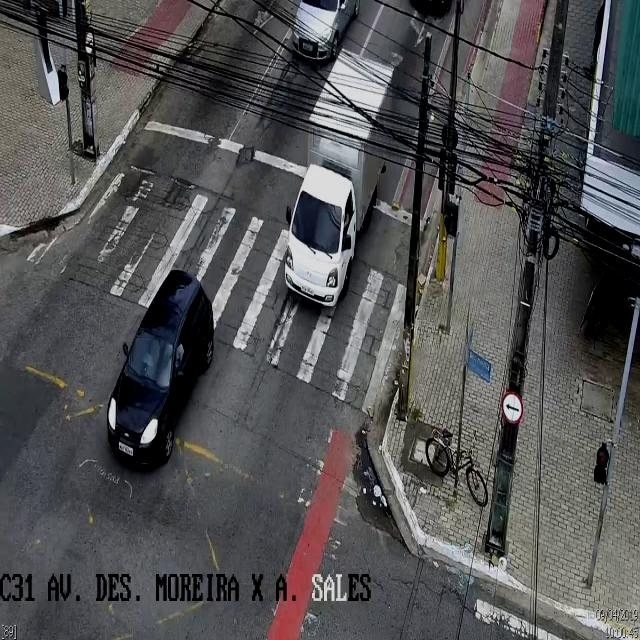Car: (108, 272, 213, 464), (290, 0, 361, 60)
Truck: (284, 48, 392, 308)
